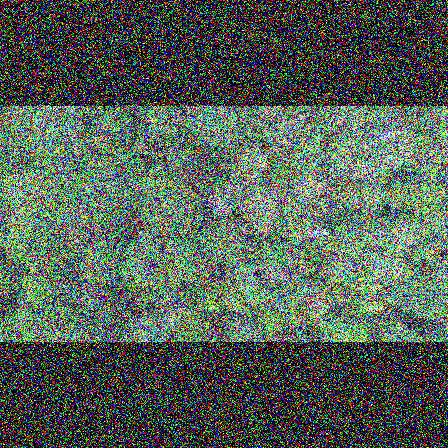Dead: (360, 128, 406, 151), (317, 245, 356, 271), (203, 191, 237, 217), (289, 317, 314, 342), (305, 223, 330, 239)
